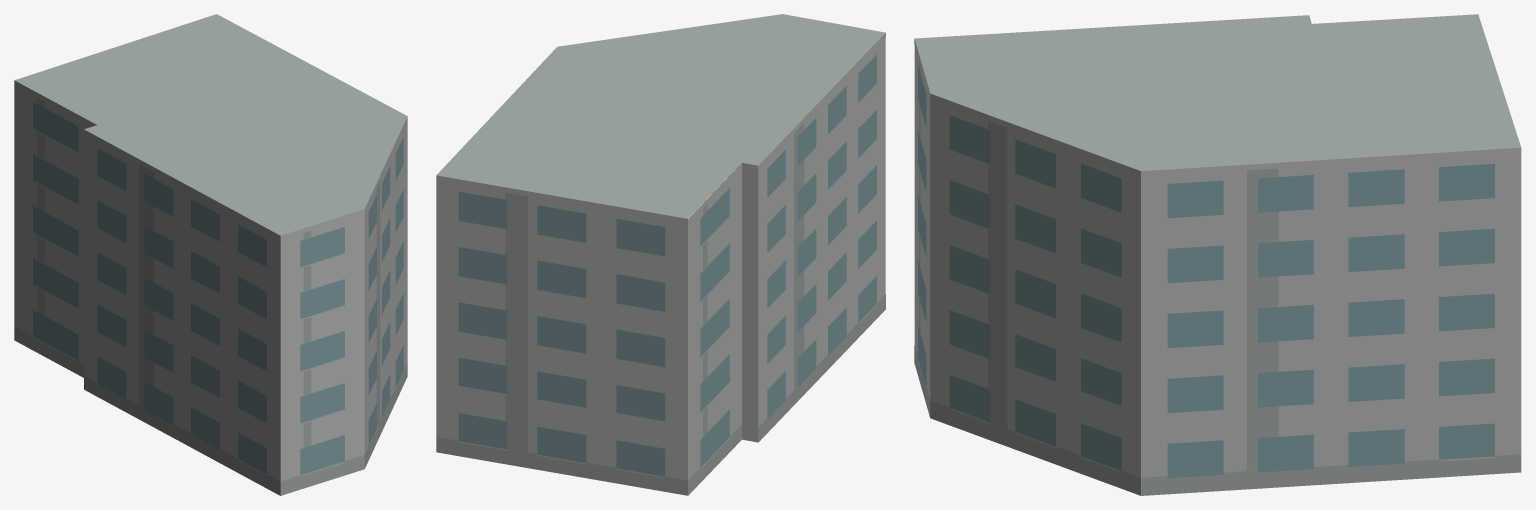
File: survey-upis-32524089.glb
3 views of the same model, side by side, from view 1: azimuth 30°, elevation 25°; view 2: azimuth 150°, elevation 25°; view 3: azimuth 270°, elevation 25° (orthographic). The views are drawn at different scales.
Visible parts, largest first — view 1: survey-upis-32524089.tmp; view 2: survey-upis-32524089.tmp; view 3: survey-upis-32524089.tmp.
Part boxes in pixels (left/top/right/bottom): survey-upis-32524089.tmp: left=14, top=14, right=407, bottom=495; survey-upis-32524089.tmp: left=436, top=14, right=885, bottom=495; survey-upis-32524089.tmp: left=914, top=14, right=1521, bottom=495.
Bounding box in the file's own units: 13.92 × 13.4 × 22.71.
